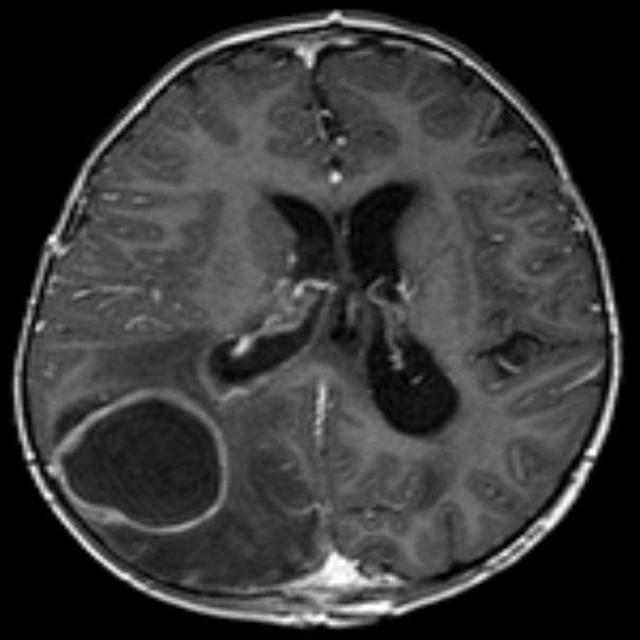Tumor-Cell: (58, 363, 217, 544)
